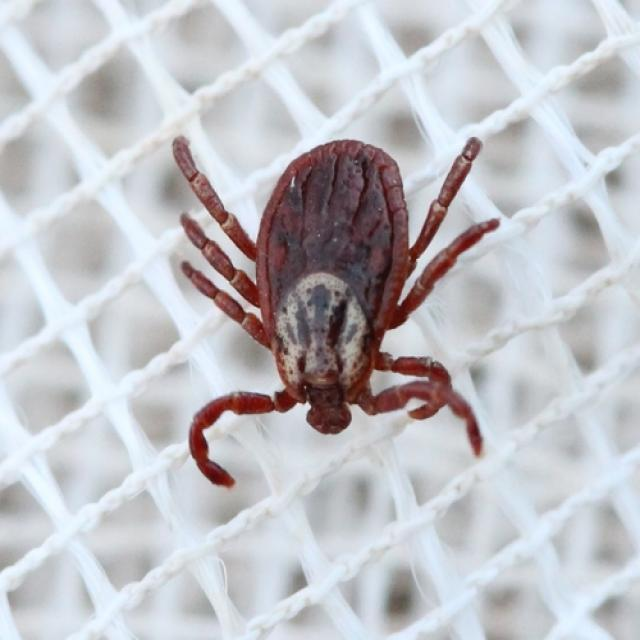Dermacentor Reticulatus-F: (173, 137, 504, 491)
